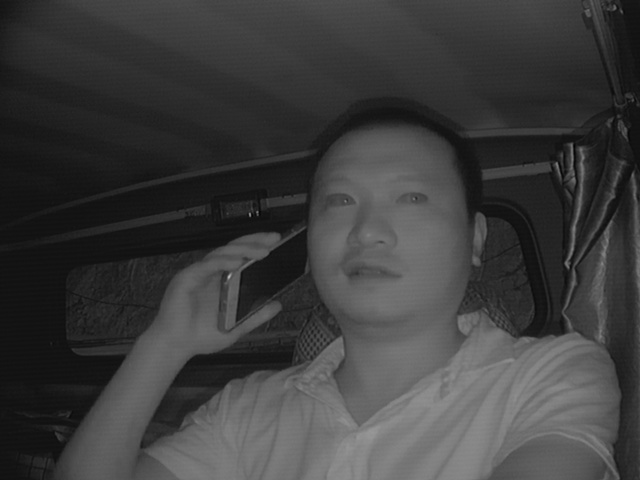hand: (166, 230, 283, 354)
